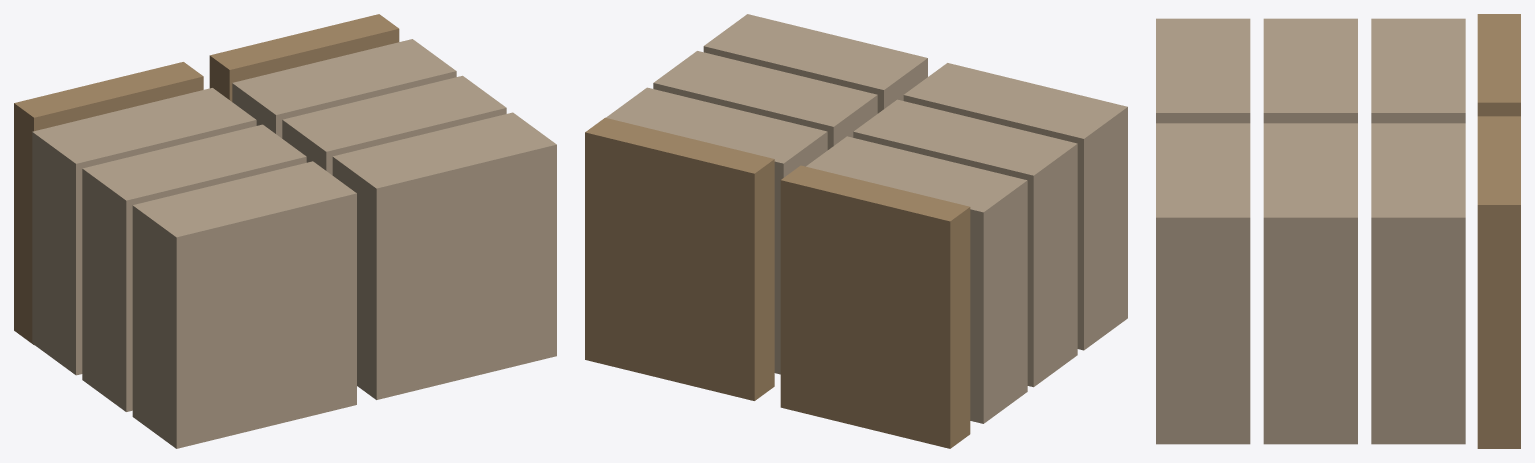
File: pallet_stack.glb
3 renders of one model, left to right at view 1: azimuth 30°, elevation 25°; view 2: azimuth 150°, elevation 25°; view 3: azimuth 270°, elevation 25°, orthographic. The views are drawn at different scales.
Parts seen in each view (by area): view 1: world; view 2: world; view 3: world.
Boxes of the visible parts, x1,y1,x2,y2 form: world: (14, 14, 556, 448); world: (585, 14, 1127, 448); world: (1156, 14, 1520, 448).
Bounding box in the file's own units: 1.75 × 1 × 1.36.
